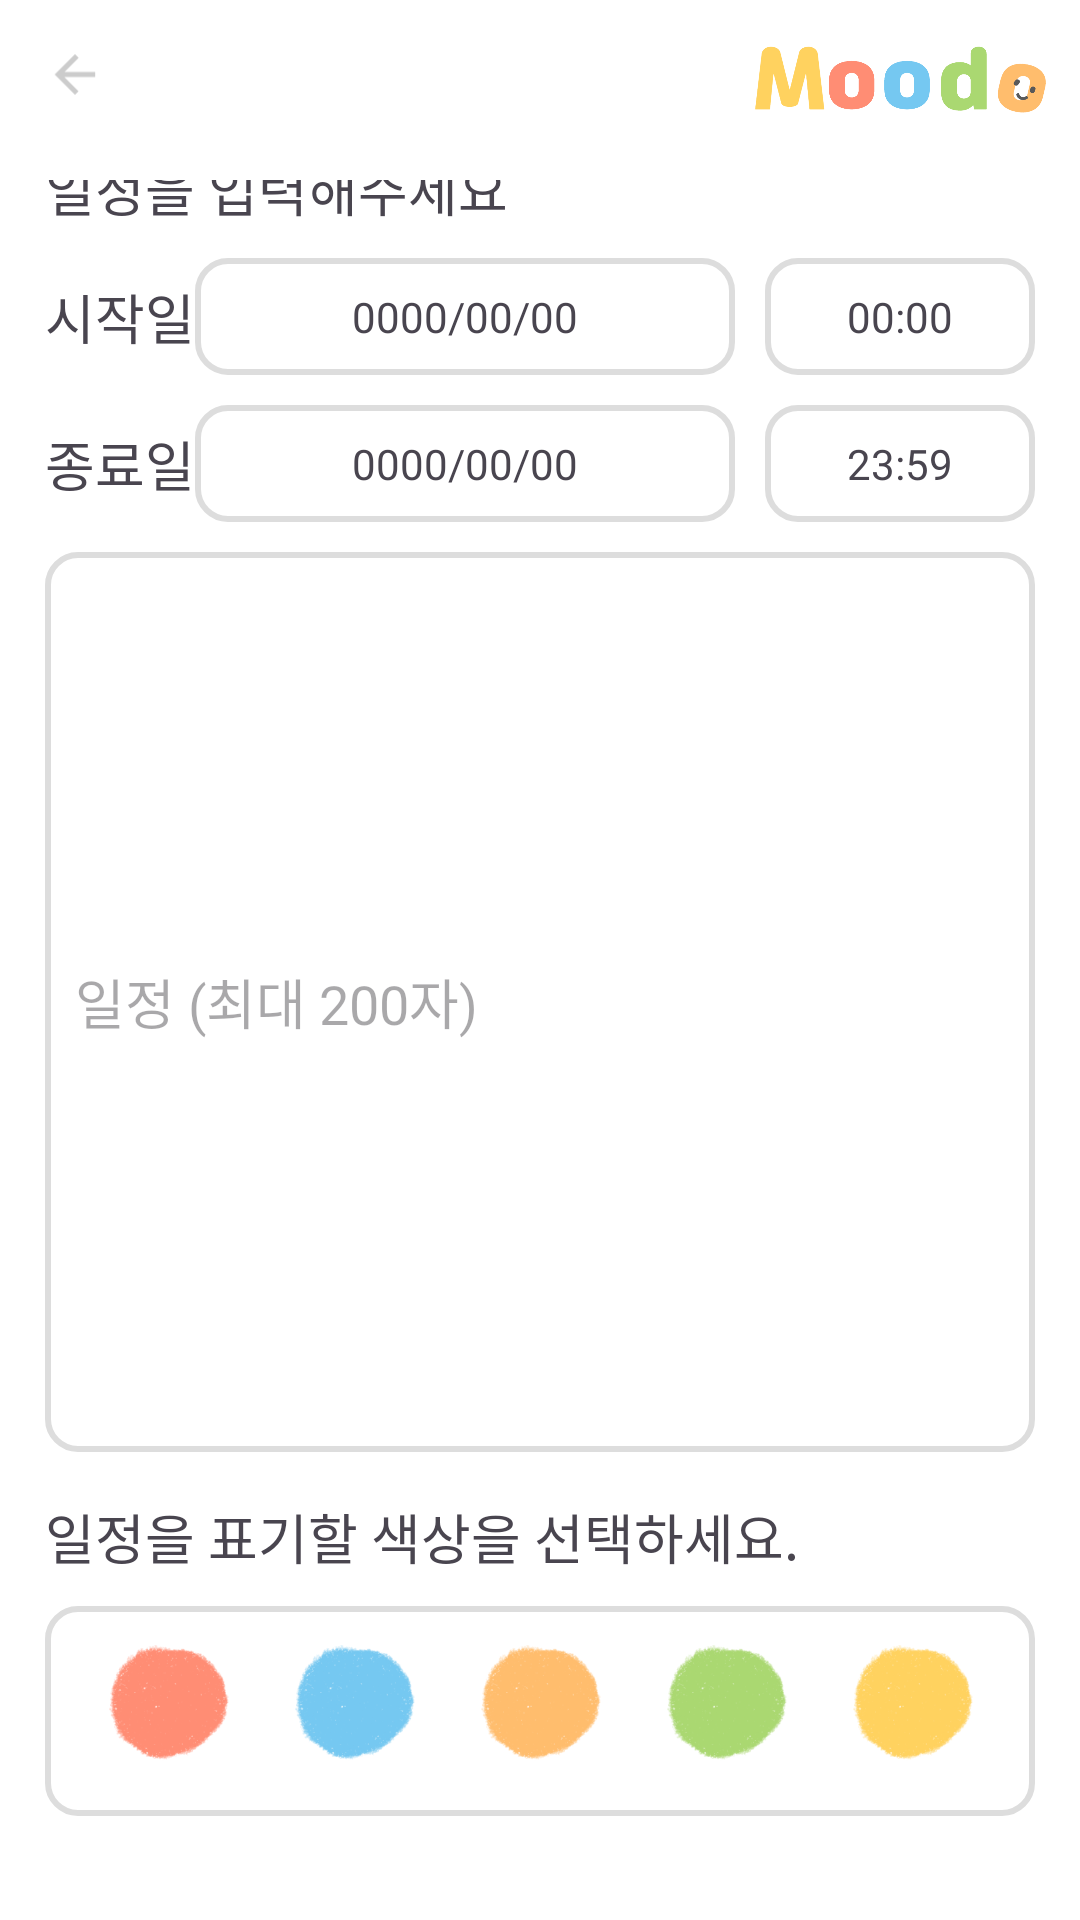

Icon bounding boxes for this 1080×1920 phone screenshot, format rect(x1, y1, x2, y2):
back: rect(55, 55, 95, 94)
